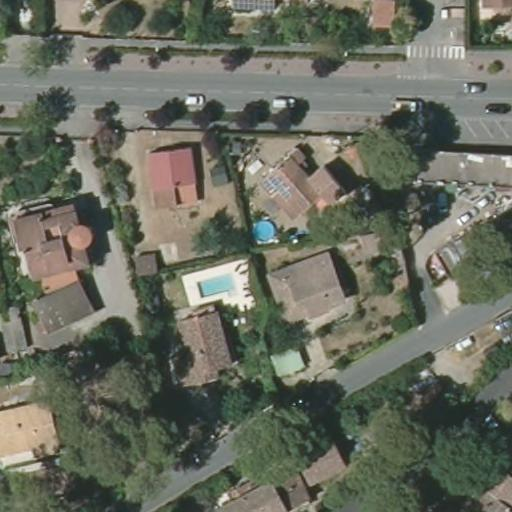pool: (195, 267, 240, 301), (251, 216, 277, 245)
